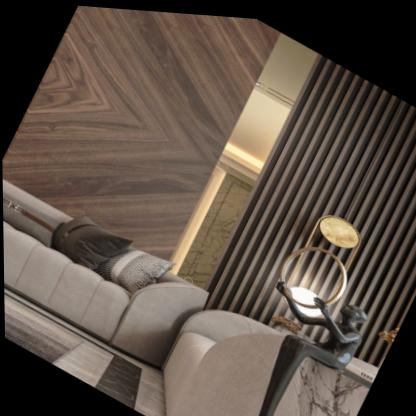Ceramic floor: (14, 296, 165, 416)
Wall Panel: (0, 0, 416, 380)
